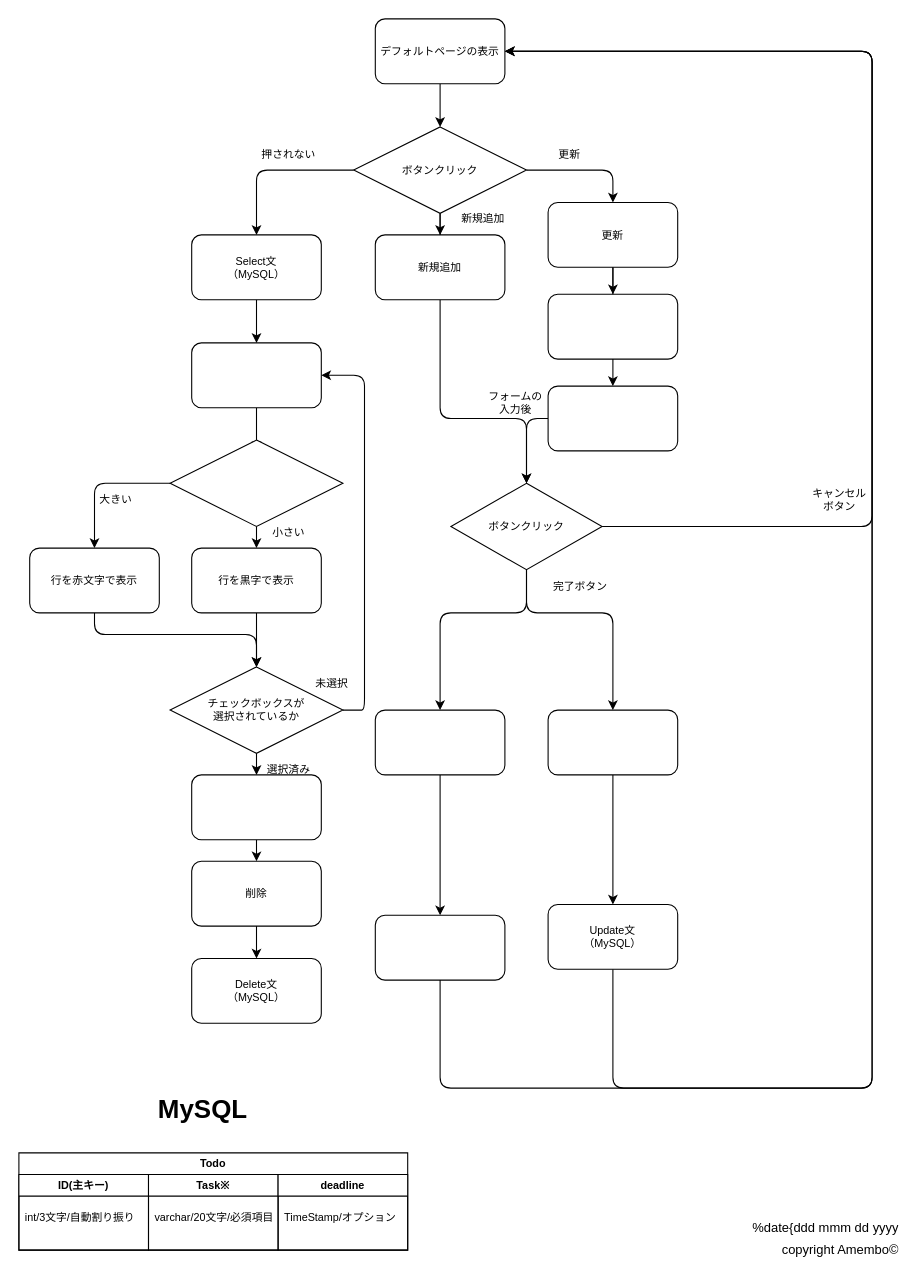
This 920x1280 diagram has some shape labels left out. The shapes that lost their labels are listed below. From the top down, each one's centre as x and y in pixels, then its label:
At [612,326]: "列データの情報を取得".
At [256,375]: "受信データの表示".
At [612,418]: "列データを事前に入力 （フォーム）".
At [256,482]: "現在時刻が Deadlineよりも大きいか".
At [439,742]: "追加ページ表示".
At [612,742]: "値更新".
At [256,807]: "完了ボタンが押される".
At [439,947]: "Insert文 （MySQLに投げる）".
